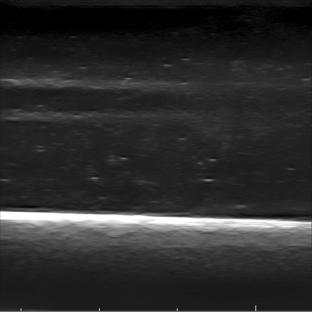vessel: (1, 77, 128, 123)
